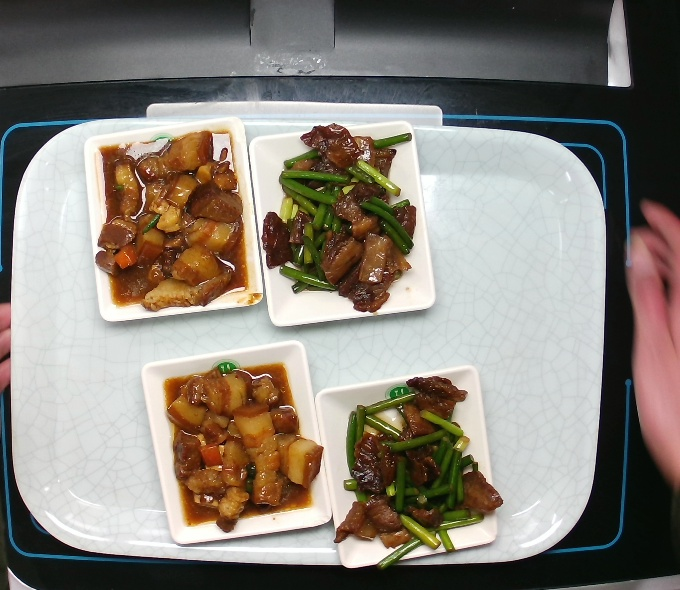wcq-HongShaoRou: (166, 352, 330, 530), (95, 127, 245, 310)
wcq-SuanMiaoChaoRou: (336, 379, 505, 578), (267, 112, 429, 315)
